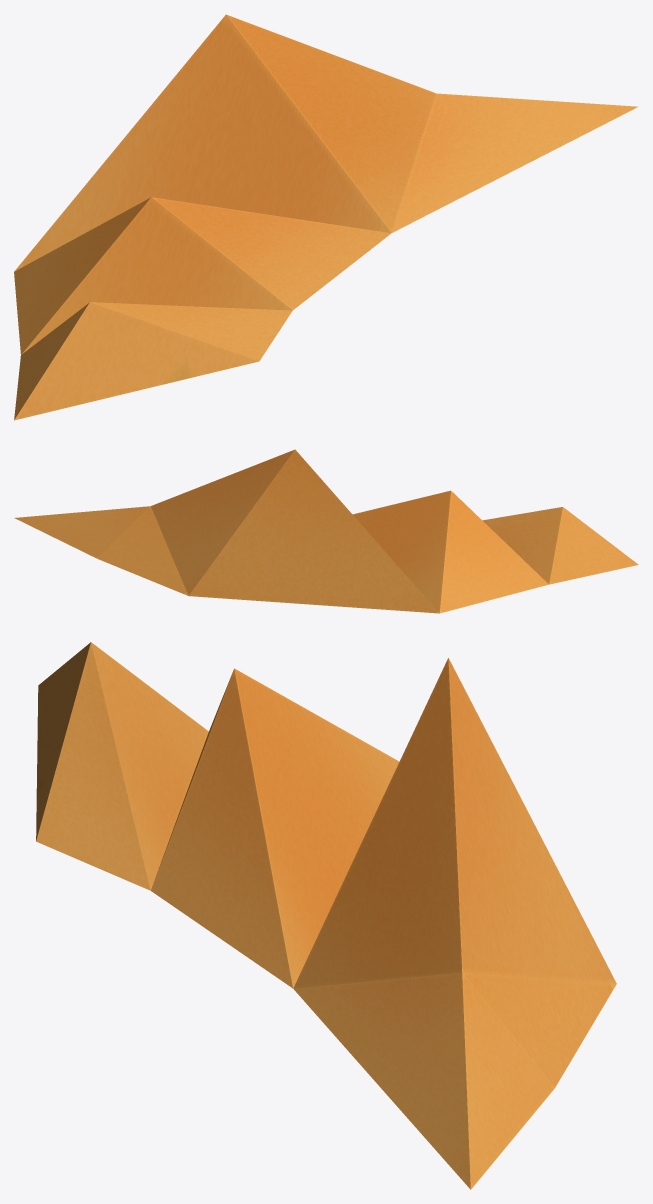
Rendered from desert-sand dune2.fbx.
3 views of the same model, one above another, from view 1: azimuth 30°, elevation 25°; view 2: azimuth 150°, elevation 25°; view 3: azimuth 270°, elevation 25° (orthographic). The views are drawn at different scales.
Parts seen in each view (by area): view 1: pPyramid1; view 2: pPyramid1; view 3: pPyramid1.
Boxes of the visible parts, x1,y1,x2,y2 form: pPyramid1: [14, 14, 638, 420]; pPyramid1: [14, 449, 638, 613]; pPyramid1: [36, 642, 616, 1189].
Size of the model in its own units: 32.64 by 7.95 by 15.88.
Materials: 1 (1 with a texture image).
